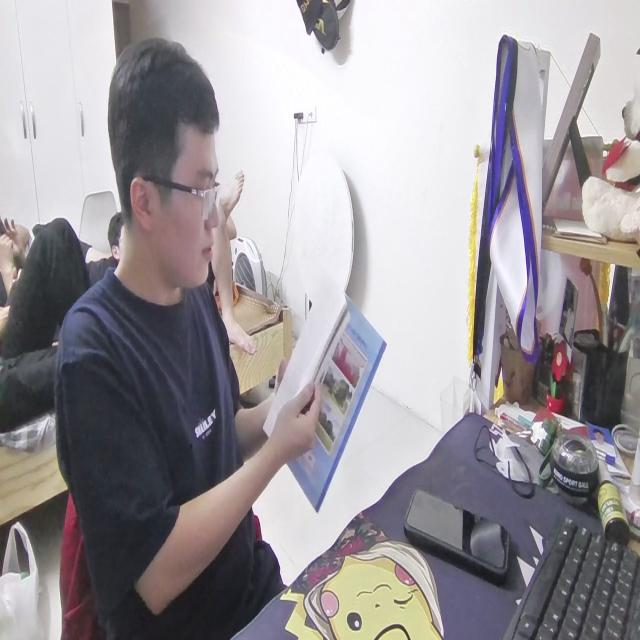book: (267, 269, 384, 510)
phone: (399, 474, 514, 590)
student: (53, 35, 292, 640)
